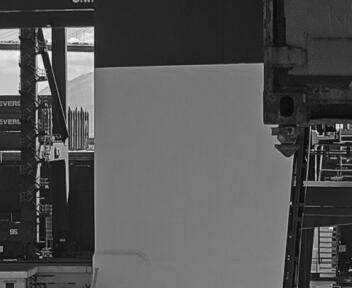twist_lock_2: (266, 118, 311, 160)
